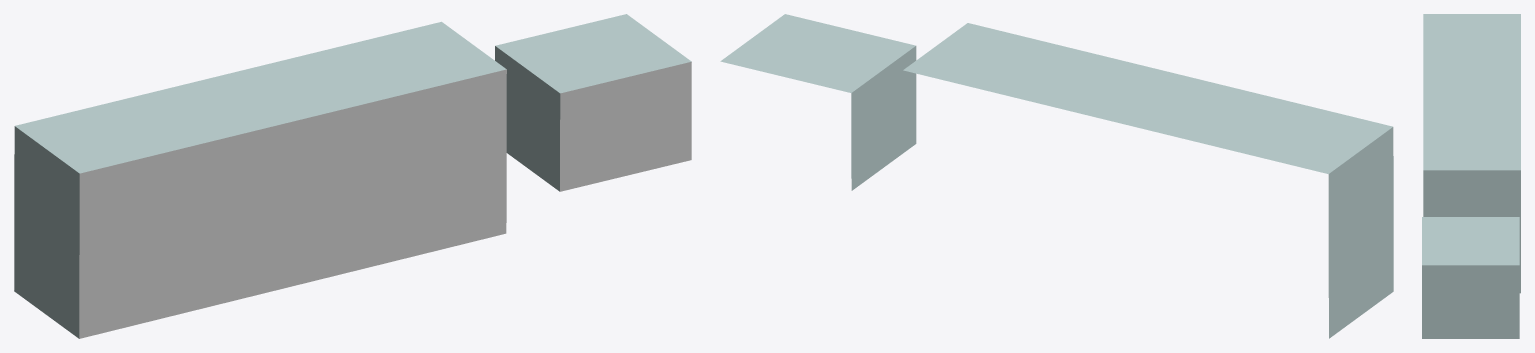
The picture shows the model from 3 angles, left to right: view 1: azimuth 30°, elevation 25°; view 2: azimuth 150°, elevation 25°; view 3: azimuth 270°, elevation 25°; orthographic projection. The views are drawn at different scales.
Parts seen in each view (by area): view 1: 0_2_2_3_3_3_1_2; view 2: 0_2_2_3_3_3_1_2; view 3: 0_2_2_3_3_3_1_2.
Part boxes in pixels (x1,y1,x2,y2): 0_2_2_3_3_3_1_2: (14, 14, 691, 338); 0_2_2_3_3_3_1_2: (720, 14, 1393, 338); 0_2_2_3_3_3_1_2: (1422, 14, 1520, 338).
Size of the model in its own units: 16.27 by 4.2 by 3.04.
